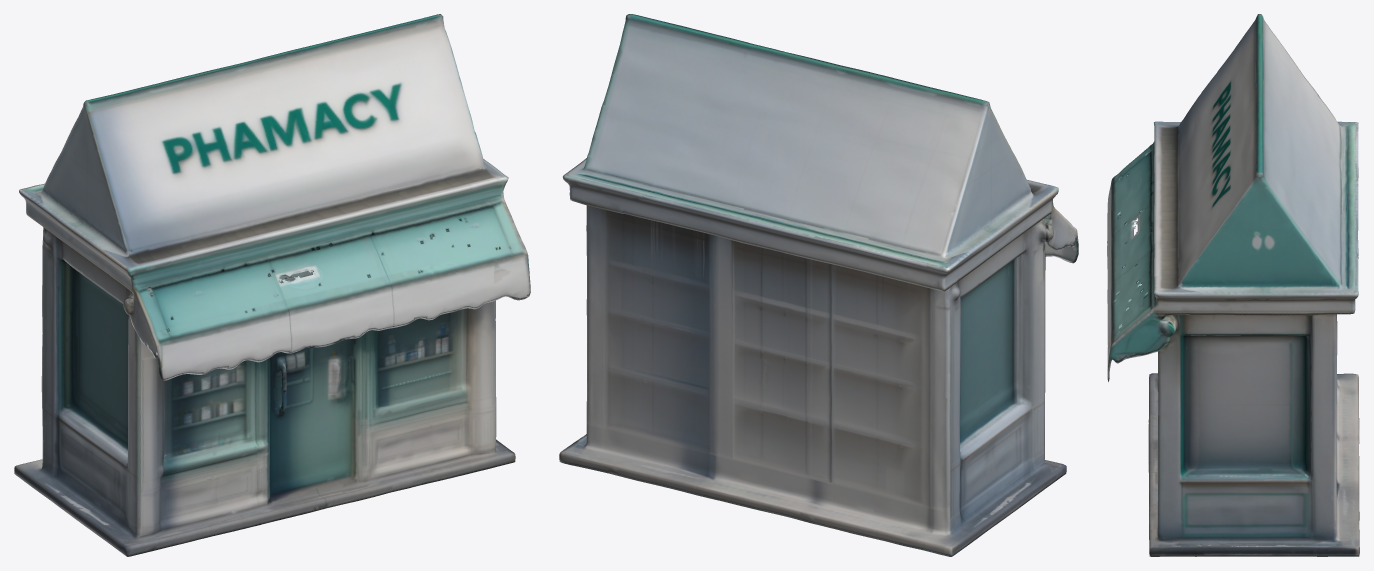
Rendered from pharmacy3.glb.
3 renders of one model, left to right at view 1: azimuth 30°, elevation 25°; view 2: azimuth 150°, elevation 25°; view 3: azimuth 270°, elevation 25°, orthographic. The views are drawn at different scales.
Size of the model in its own units: 2 by 2 by 1.22.
Materials: 1 (1 with a texture image).
